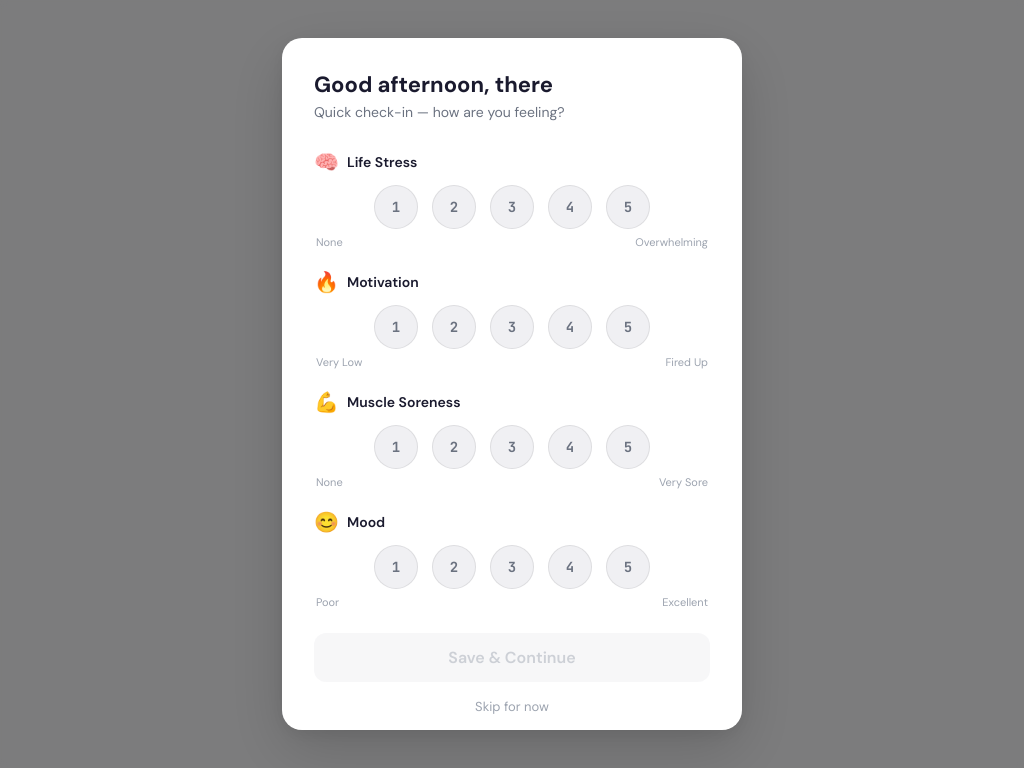
Test: CheckInModal › shows error message on API failure
The image size is (1024, 768).
Click the button named "Mood 3" at (512, 567), box [490,545,534,589]
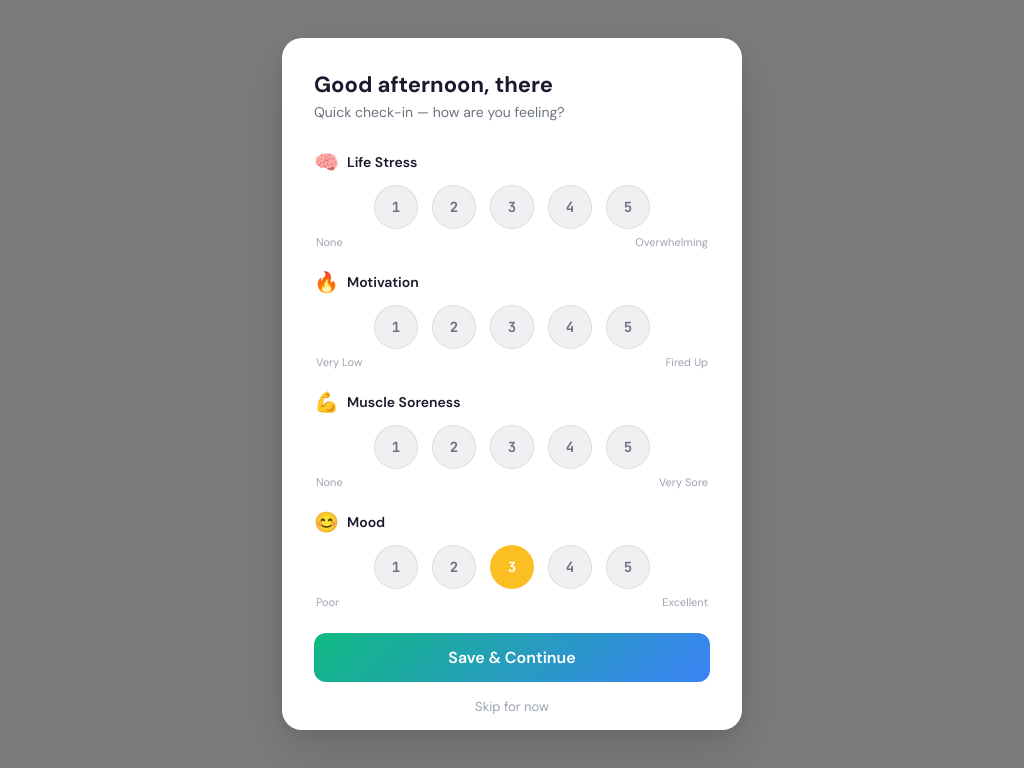
Click the button "Save & Continue" at (512, 658), box [314,633,710,682]
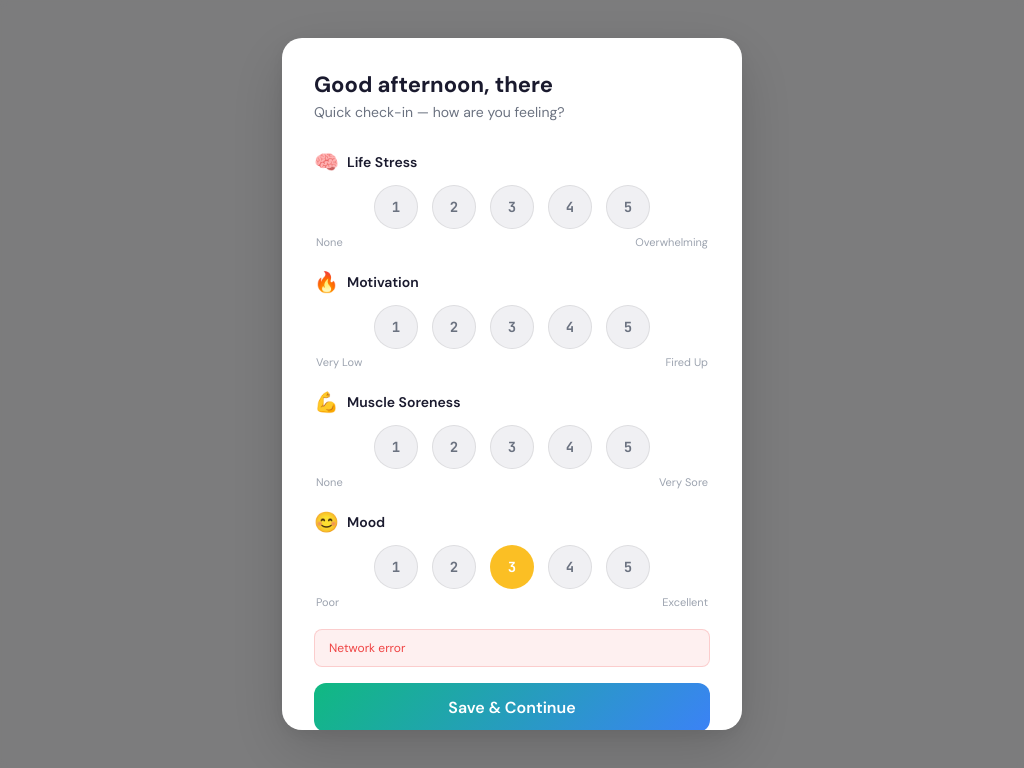
Check: the text "Network error" is shown, box [314,629,710,667]
